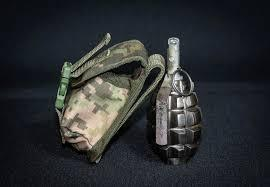F1: (147, 35, 204, 166)
